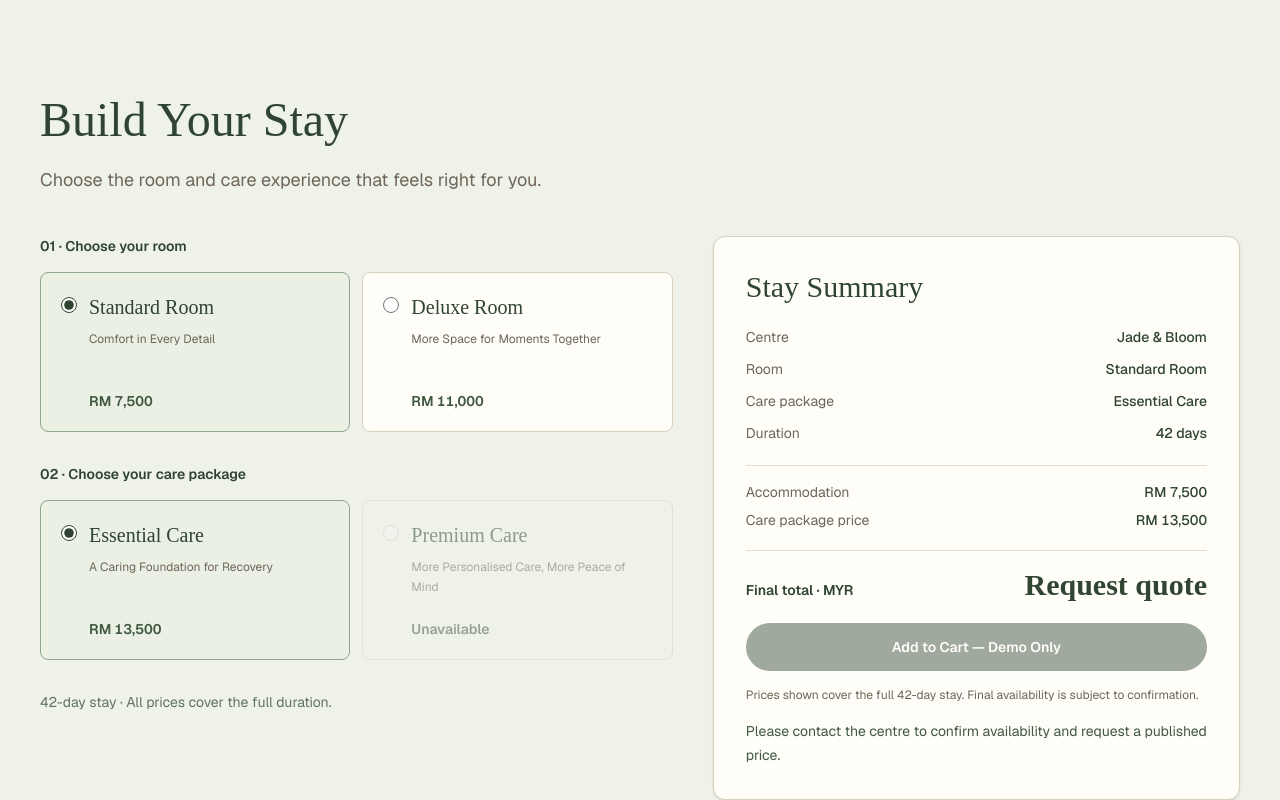
Test case: stay configuration › disables unavailable combinations and requests a quote for missing prices
This screenshot has width=1280, height=800.
Expected: the text "Request quote" is shown, x1=1024 y1=567 x2=1207 y2=603
Expected: the button "Add to Cart — Demo Only" is disabled, x1=746 y1=623 x2=1207 y2=671
Click the radio button labelled "Deluxe Room More Space for Moments Together RM 11,000": [391, 305] box x1=383 y1=297 x2=399 y2=313
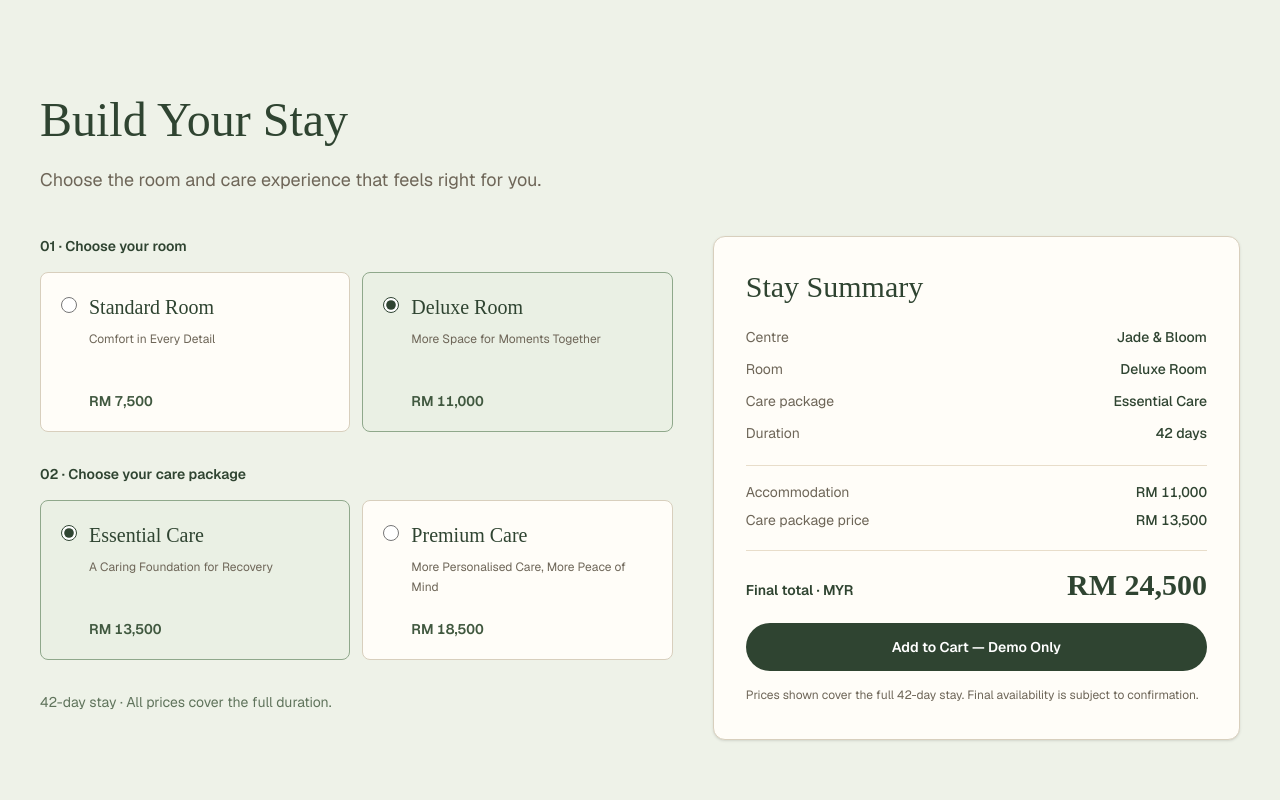
Result: the radio button labelled "Premium Care" is enabled at x1=383 y1=525 x2=399 y2=541
Result: the text "RM 24,500" is shown at x1=1067 y1=567 x2=1207 y2=603
